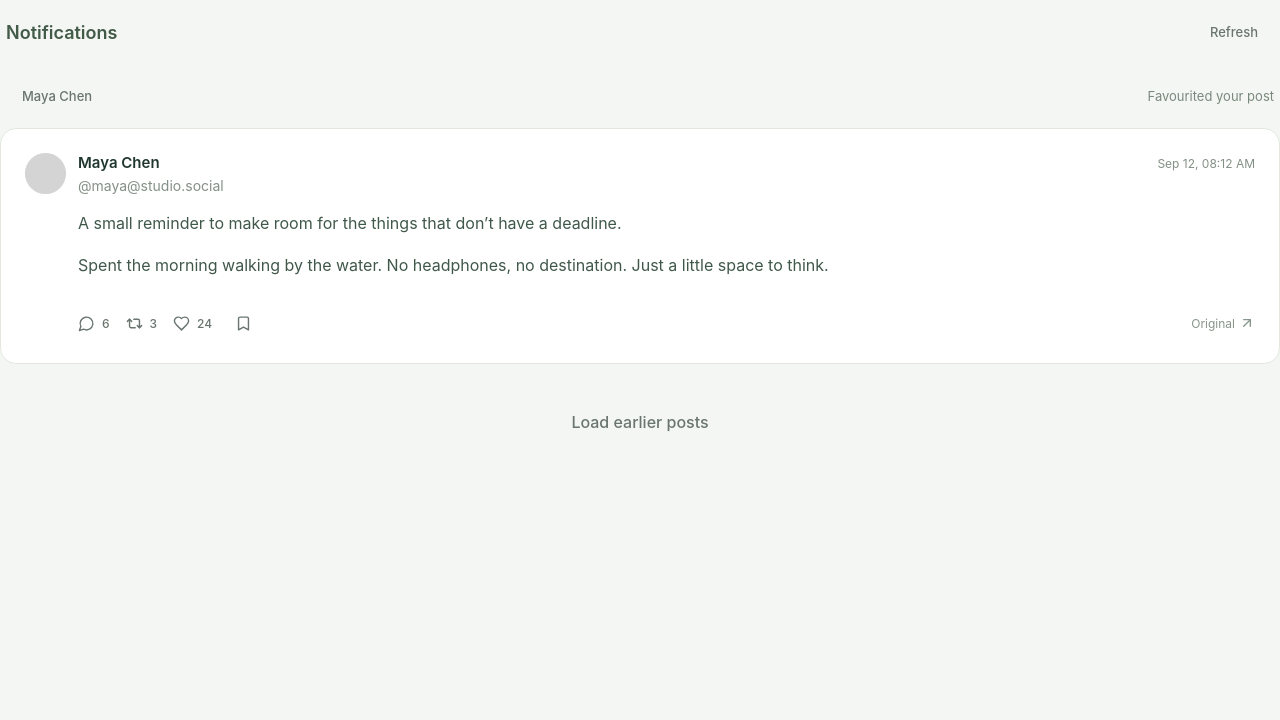
exploration flows › paginates notifications without duplicates and retains unknown event types
The width and height of the screenshot is (1280, 720).
Click the button "Load earlier posts": click(640, 422) [555,402,725,442]
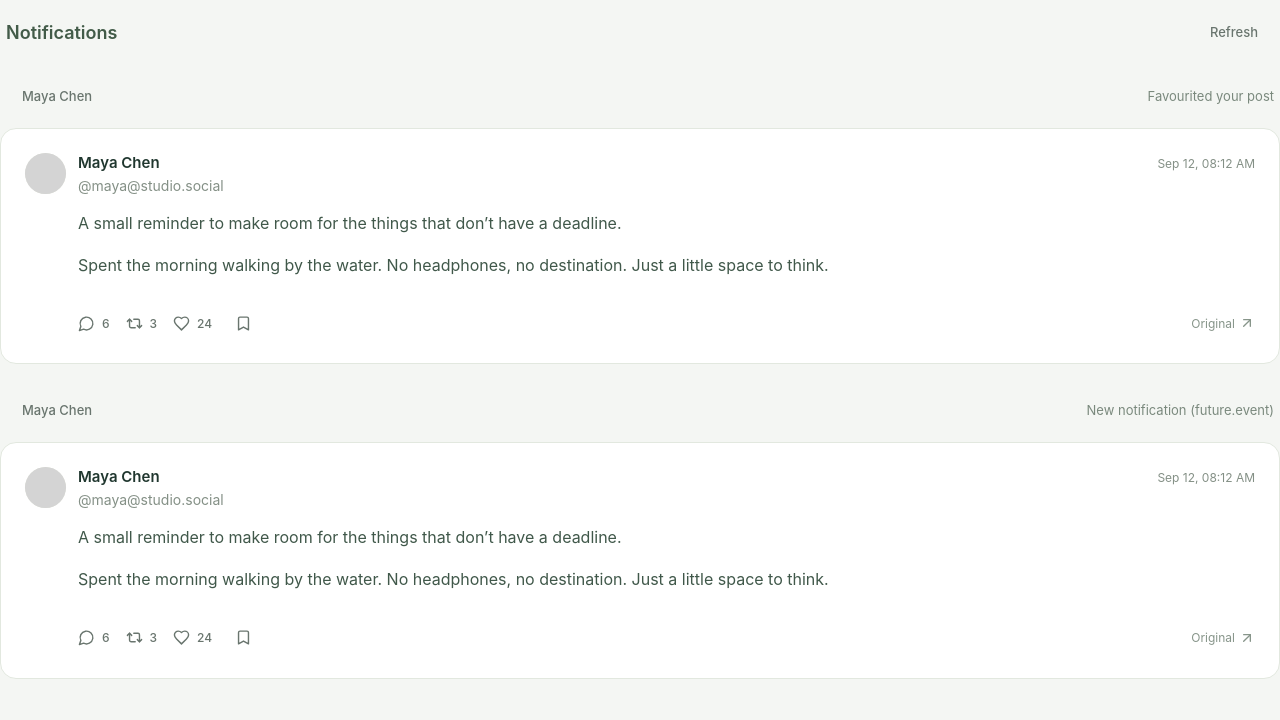
expect the text "future.event" is shown: met, box [1086,402,1274,418]
expect the number of elements with class "status-card" is 2: met, box [0,128,1279,364]; [0,442,1279,679]
